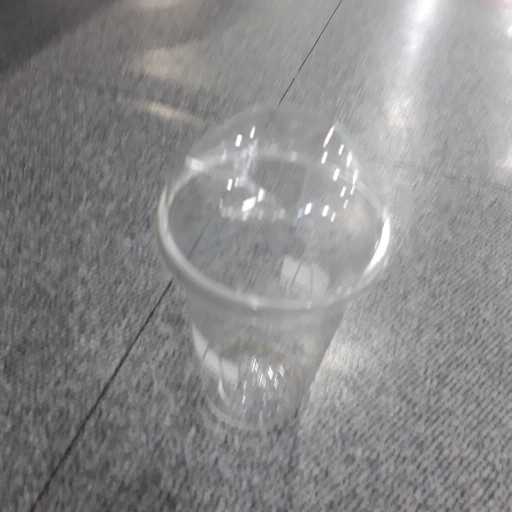Plastic_2: (154, 104, 388, 438)
